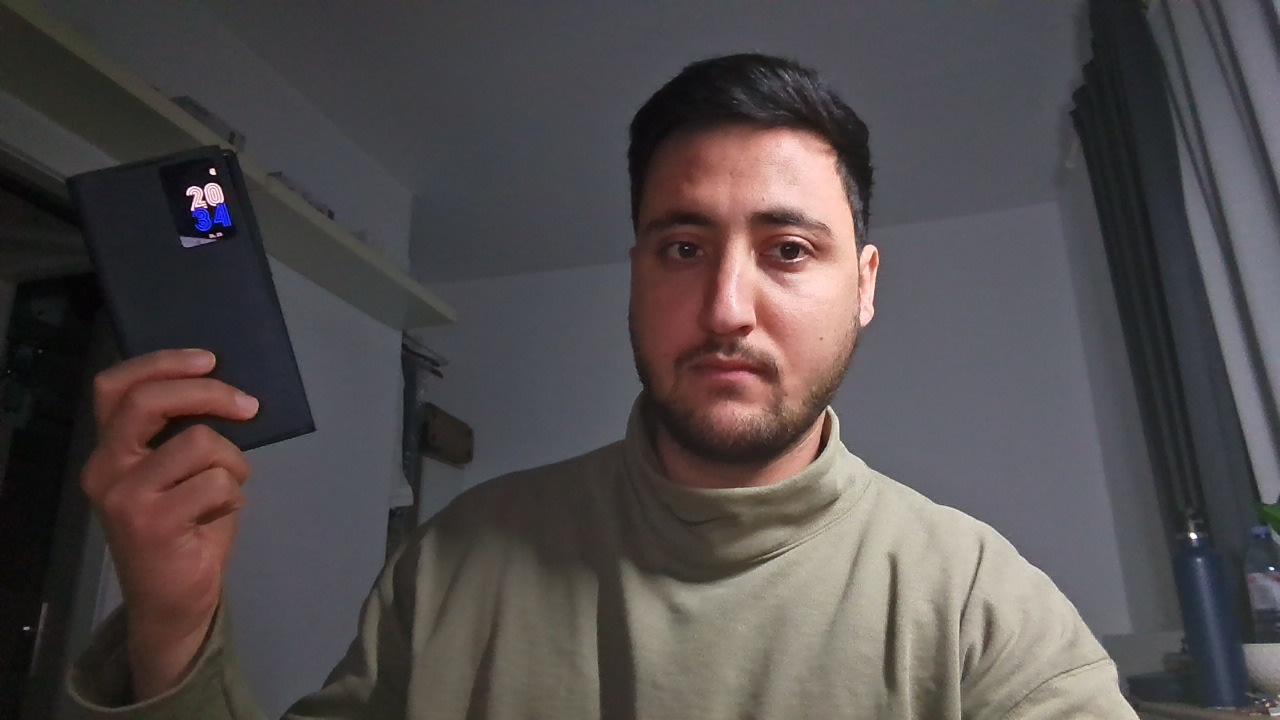Handy: (36, 125, 351, 476)
Wasserflasche: (1134, 488, 1261, 720)
me: (609, 19, 897, 471)
